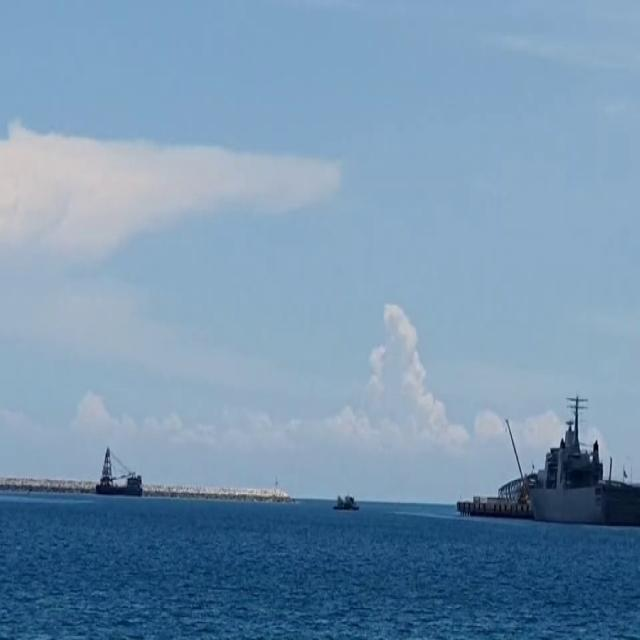civilianship: (74, 430, 181, 505)
warship1: (411, 387, 640, 536)
